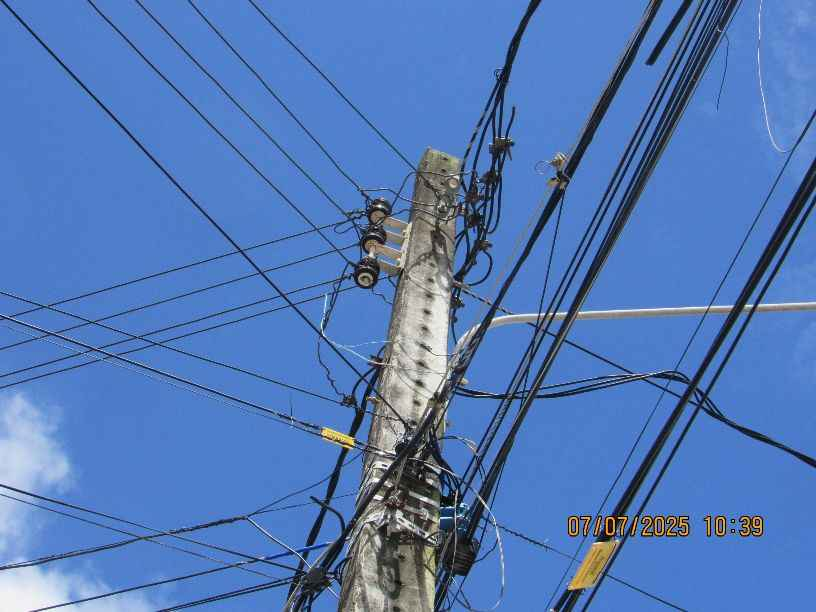drop: (243, 546, 354, 608)
fibra_optica: (410, 436, 522, 592), (528, 506, 666, 598), (280, 415, 377, 469)
